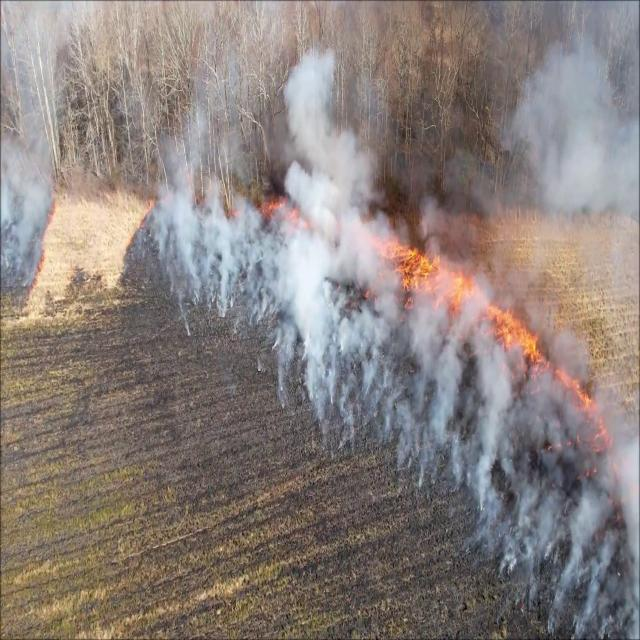Fire: (400, 234, 488, 326)
Smoke: (277, 42, 381, 439), (520, 33, 640, 234), (0, 0, 60, 305), (147, 107, 212, 344), (467, 320, 515, 557), (613, 415, 640, 640)
